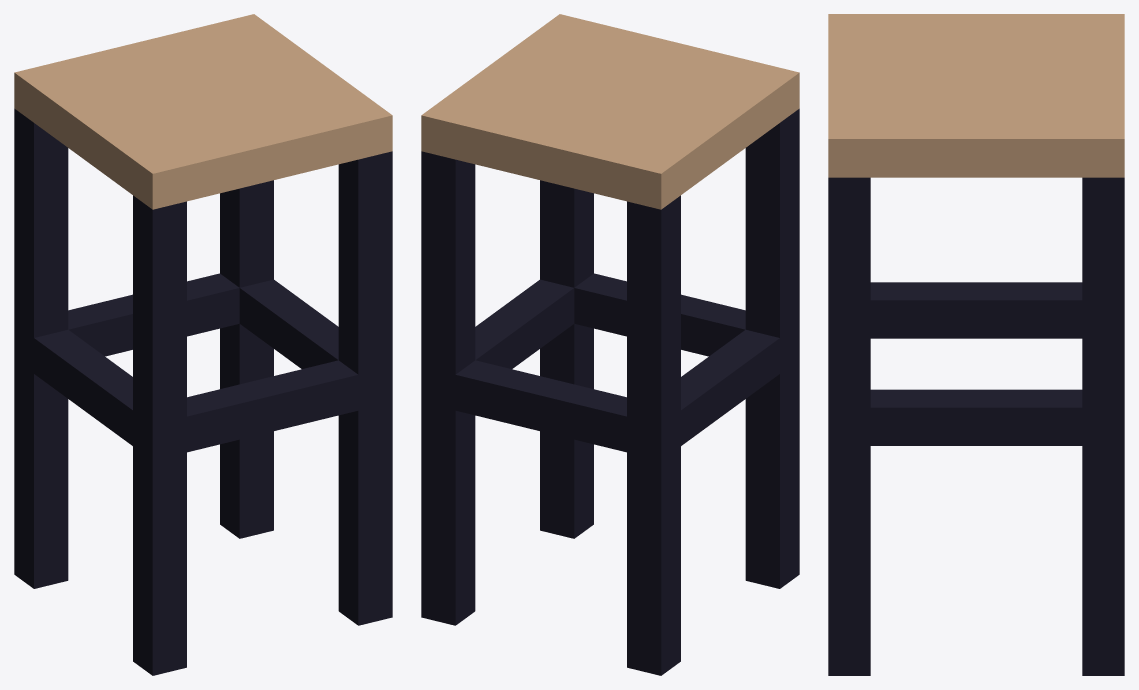
The model's file is bar_stool.gltf.
3 renders of one model, left to right at view 1: azimuth 30°, elevation 25°; view 2: azimuth 150°, elevation 25°; view 3: azimuth 270°, elevation 25°, orthographic. The views are drawn at different scales.
Parts seen in each view (by area): view 1: Layer.2; view 2: Layer.2; view 3: Layer.2.
Boxes of the visible parts, x1,y1,x2,y2 form: Layer.2: [14, 14, 392, 675]; Layer.2: [421, 14, 799, 675]; Layer.2: [828, 14, 1124, 675].
Size of the model in its own units: 7 by 14 by 7.
